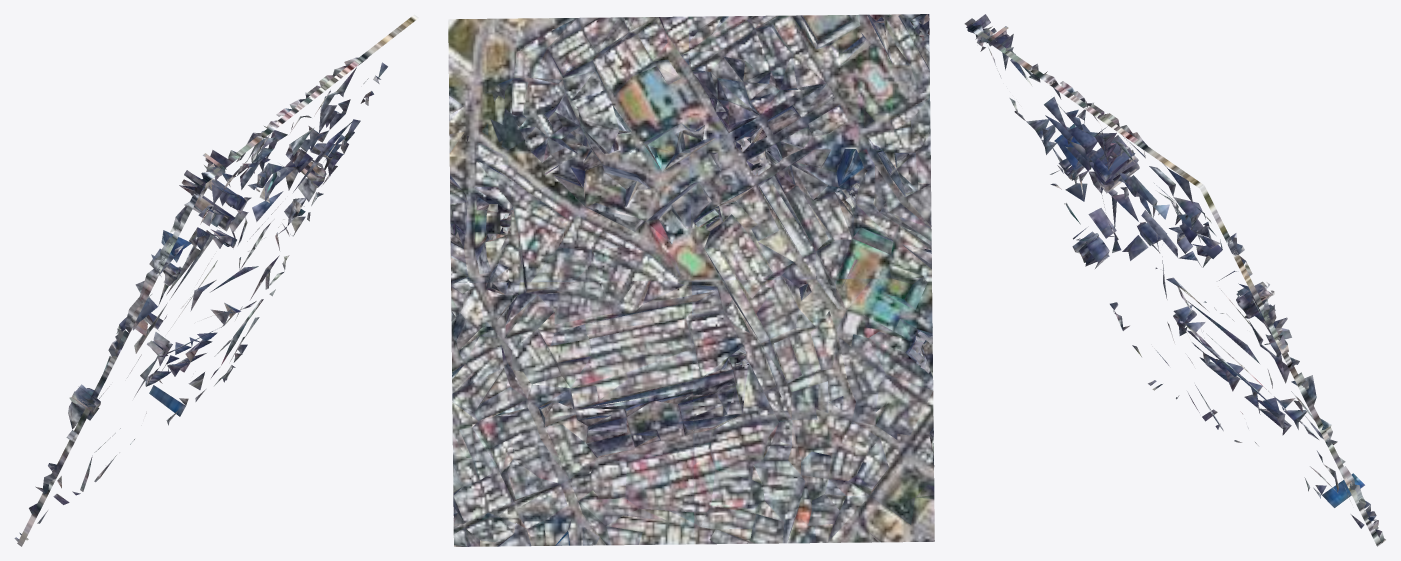
The picture shows the model from 3 angles, left to right: view 1: azimuth 30°, elevation 25°; view 2: azimuth 150°, elevation 25°; view 3: azimuth 270°, elevation 25°; orthographic projection. The views are drawn at different scales.
Bounding box in the file's own units: 1222 × 1131 × 1045.
2 materials, 2 textured.
